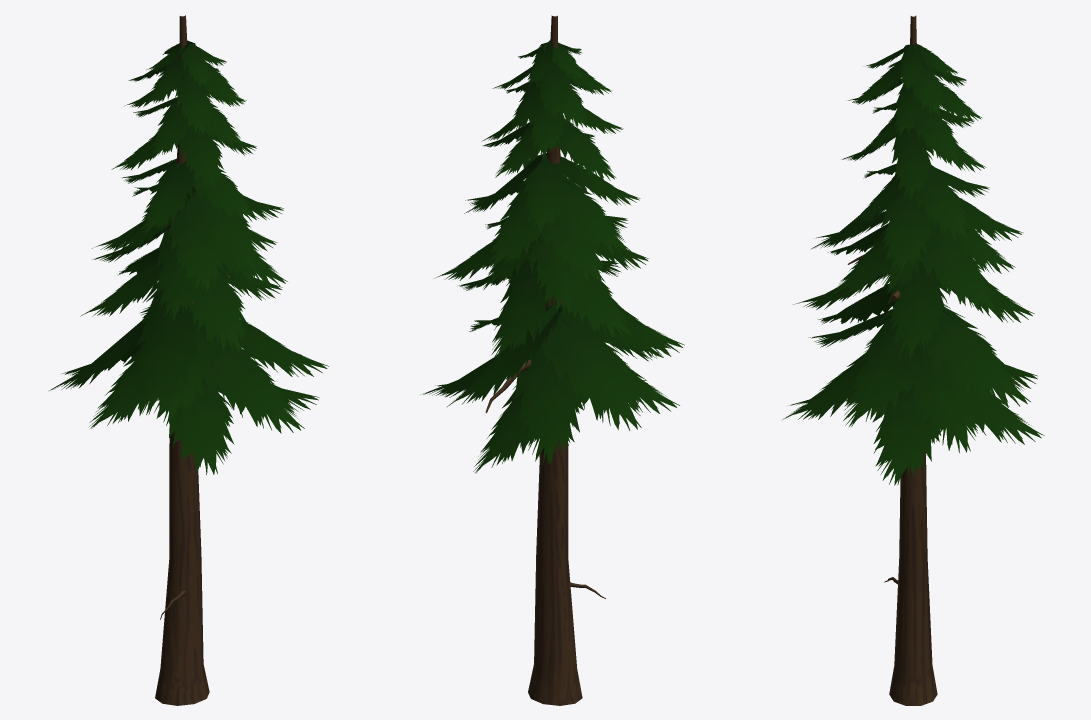
The model's file is SM_Pine_Tree_2.glb.
3 views of the same model, side by side, from view 1: azimuth 30°, elevation 25°; view 2: azimuth 150°, elevation 25°; view 3: azimuth 270°, elevation 25° (orthographic).
Parts seen in each view (by area): view 1: SM_Pine_Tree_2; view 2: SM_Pine_Tree_2; view 3: SM_Pine_Tree_2.
Part boxes in pixels (<box>): SM_Pine_Tree_2: <box>49,15,328,705</box>; SM_Pine_Tree_2: <box>420,15,684,705</box>; SM_Pine_Tree_2: <box>782,15,1044,705</box>.
Size of the model in its own units: 3.15 by 6.79 by 3.02.
2 materials, 2 textured.
